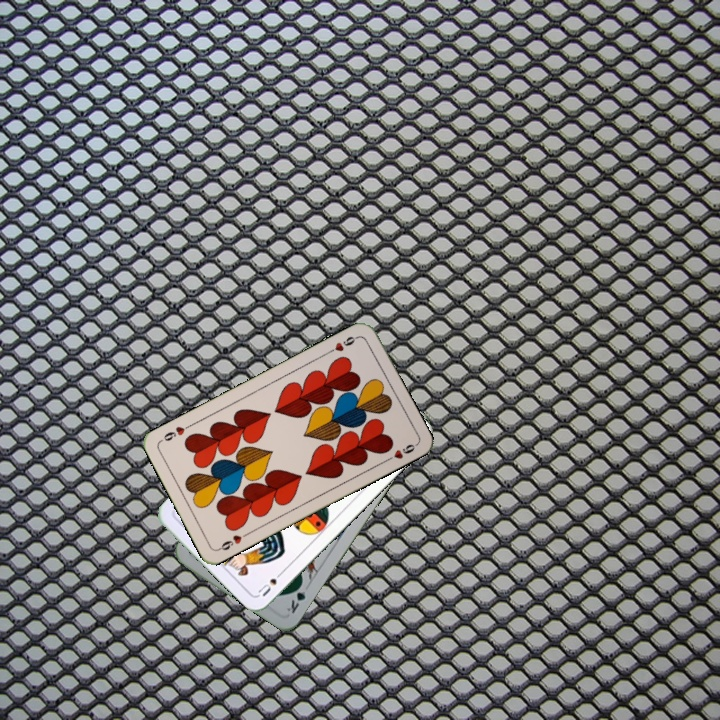GK: (283, 578, 310, 616)
H9: (214, 528, 251, 553), (324, 332, 361, 356)
SU: (254, 566, 287, 599)
